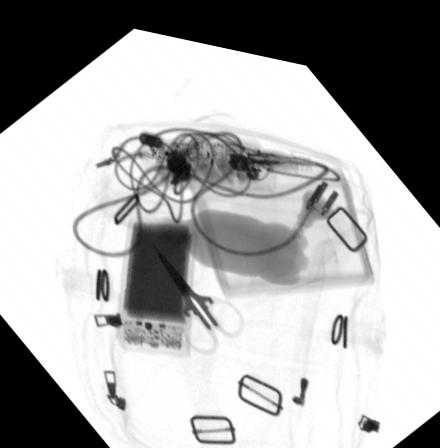Powerbank: (118, 208, 197, 347)
Scissors: (150, 235, 245, 349)
